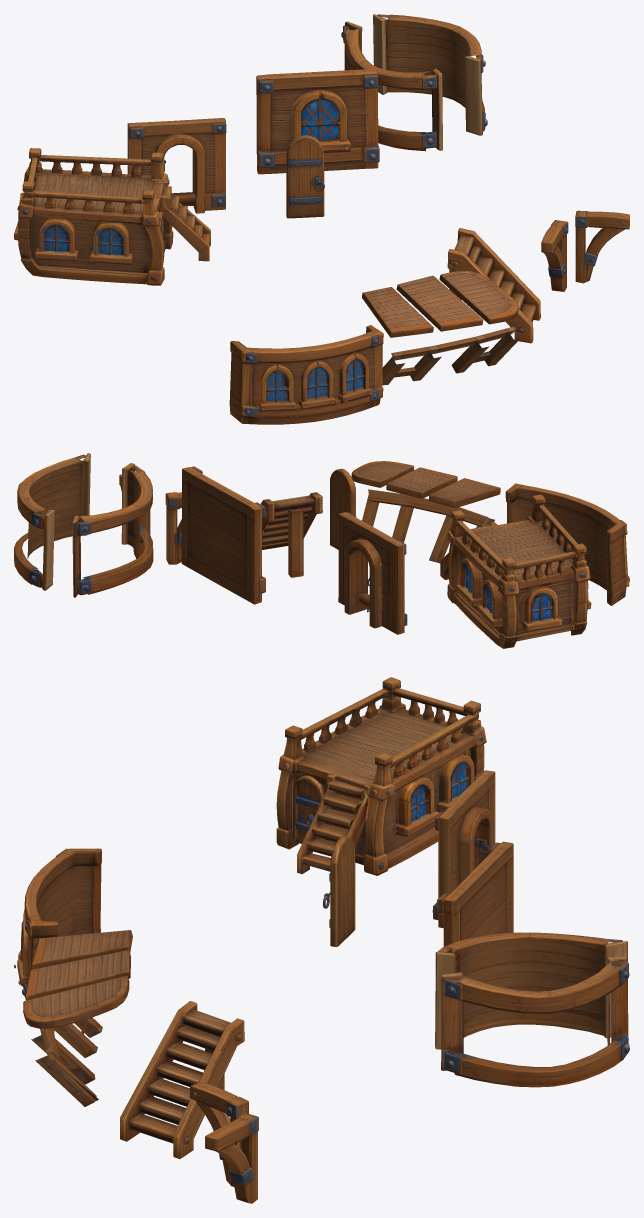
File: cabin.glb
3 renders of one model, top to bottom at view 1: azimuth 30°, elevation 25°; view 2: azimuth 150°, elevation 25°; view 3: azimuth 270°, elevation 25°, orthographic. The views are drawn at different scales.
Visible parts, largest first — view 1: tripo_44fe3603_dc8d_47df_b5fc_bbebf4cce229; view 2: tripo_44fe3603_dc8d_47df_b5fc_bbebf4cce229; view 3: tripo_44fe3603_dc8d_47df_b5fc_bbebf4cce229.
Part boxes in pixels (x1,y1,x2,y2): tripo_44fe3603_dc8d_47df_b5fc_bbebf4cce229: (14, 14, 629, 424); tripo_44fe3603_dc8d_47df_b5fc_bbebf4cce229: (14, 453, 629, 648); tripo_44fe3603_dc8d_47df_b5fc_bbebf4cce229: (14, 677, 629, 1203).
Size of the model in its own units: 0.9995 by 0.3208 by 0.7915.
Materials: 1 (1 with a texture image).
